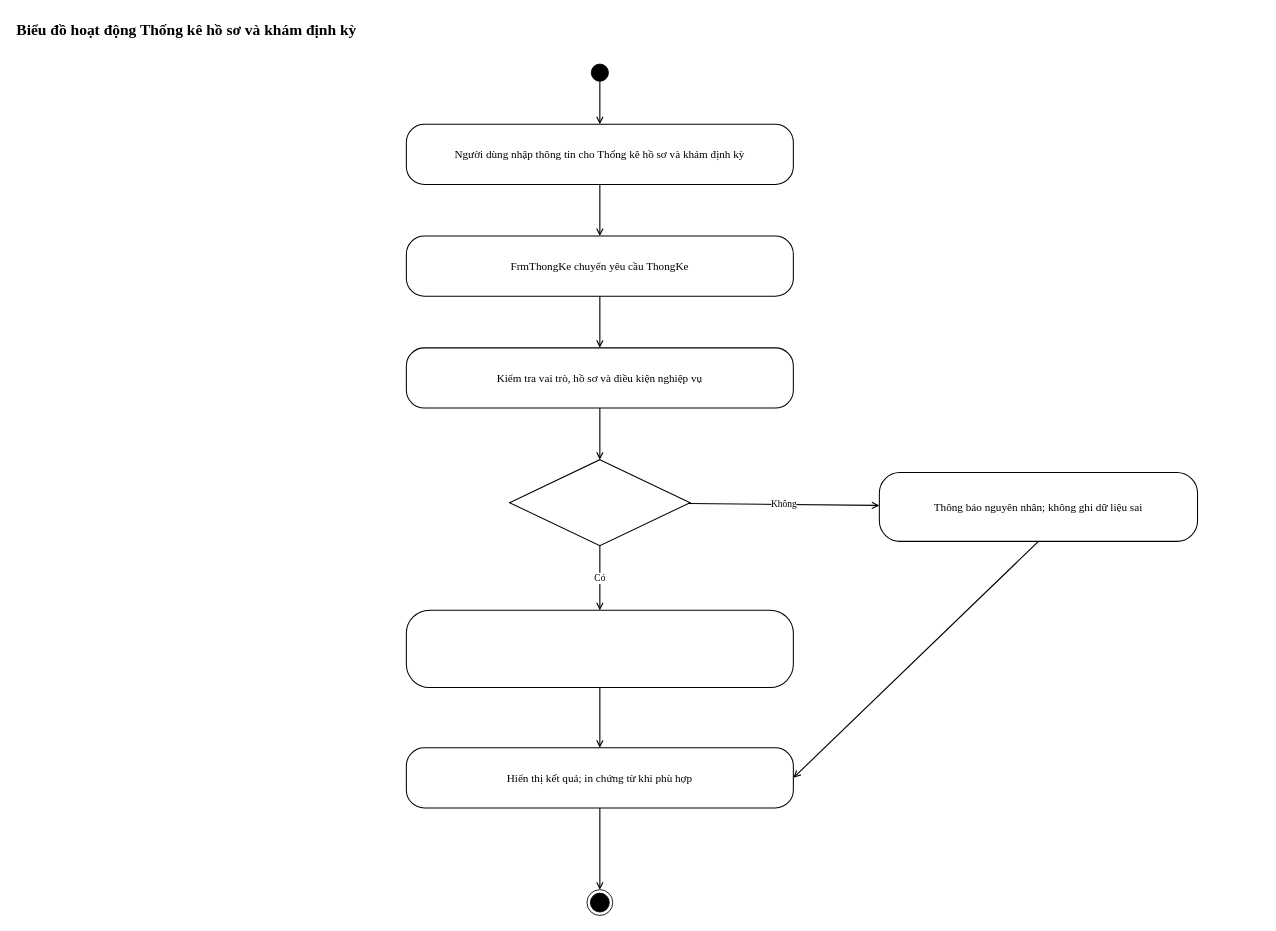
The diagram is 1276 pixels wide and 931 high, and some of its shapes have lost their labels. The shapes that lost their labels are listed below. From the top down, each one's box as (x1, y1, x2, y2) in pixels, then its label:
(509, 459, 690, 546): Hợp lệ?
(405, 609, 793, 688): SELECT tổng hợp theo bộ lọc
